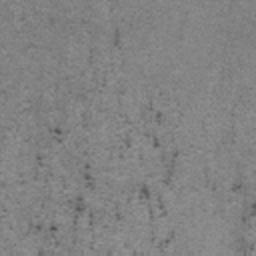Oxide scale of temperature system: (115, 111, 180, 253), (35, 163, 123, 256), (230, 182, 256, 256), (35, 125, 63, 168), (113, 28, 122, 46)
